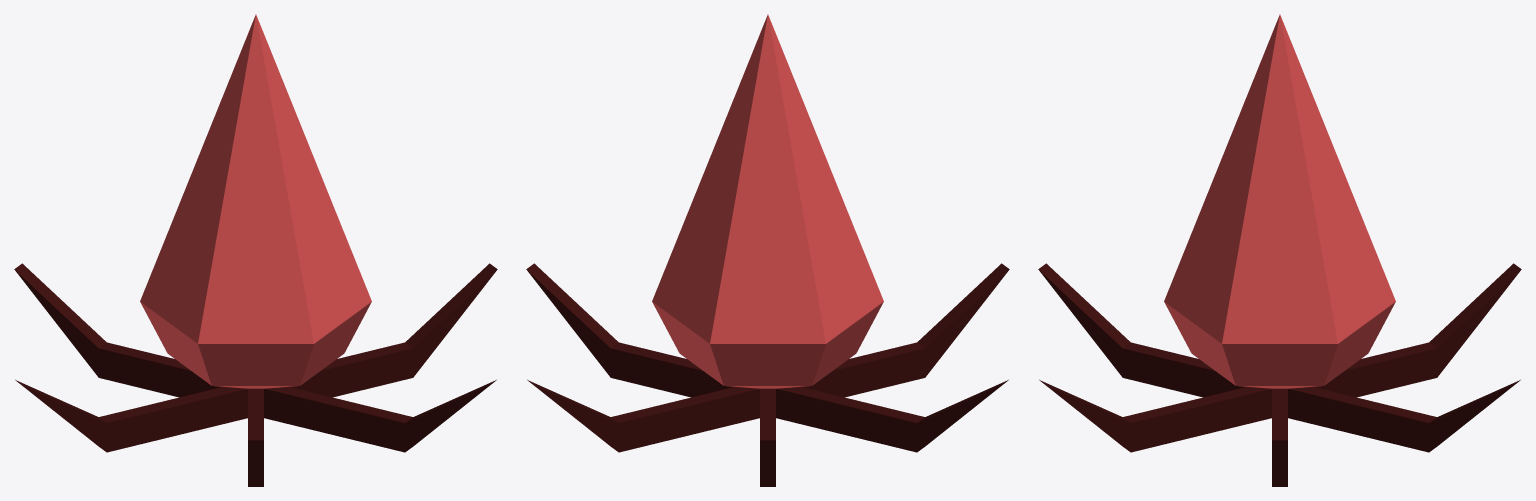
The model's file is CyrstalBud.fbx.
The picture shows the model from 3 angles, left to right: view 1: azimuth 30°, elevation 25°; view 2: azimuth 150°, elevation 25°; view 3: azimuth 270°, elevation 25°; orthographic projection.
Visible parts, largest first — view 1: Bud; view 2: Bud; view 3: Bud.
Boxes of the visible parts, bbox=[...] form: Bud: bbox=[14, 14, 497, 486]; Bud: bbox=[526, 14, 1009, 486]; Bud: bbox=[1038, 14, 1521, 486].
Bounding box in the file's own units: 169 × 135 × 149.
1 material, 1 textured.
